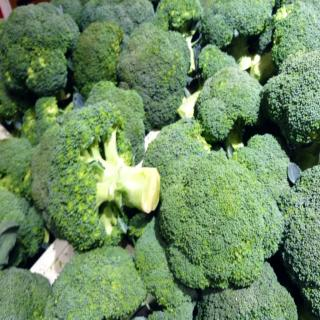Broccoli: (1, 0, 320, 320)
